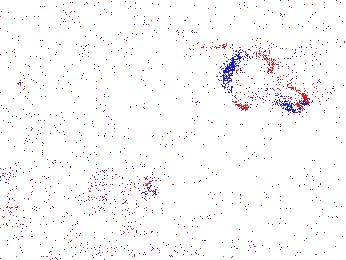flame jellyfish: (220, 51, 310, 116), (87, 166, 160, 222), (1, 159, 35, 217)
